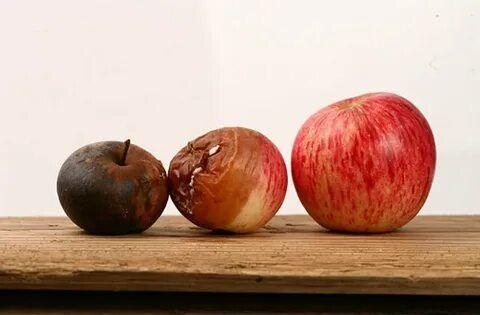Apple: (290, 90, 435, 233), (170, 127, 288, 234), (58, 142, 168, 236)
